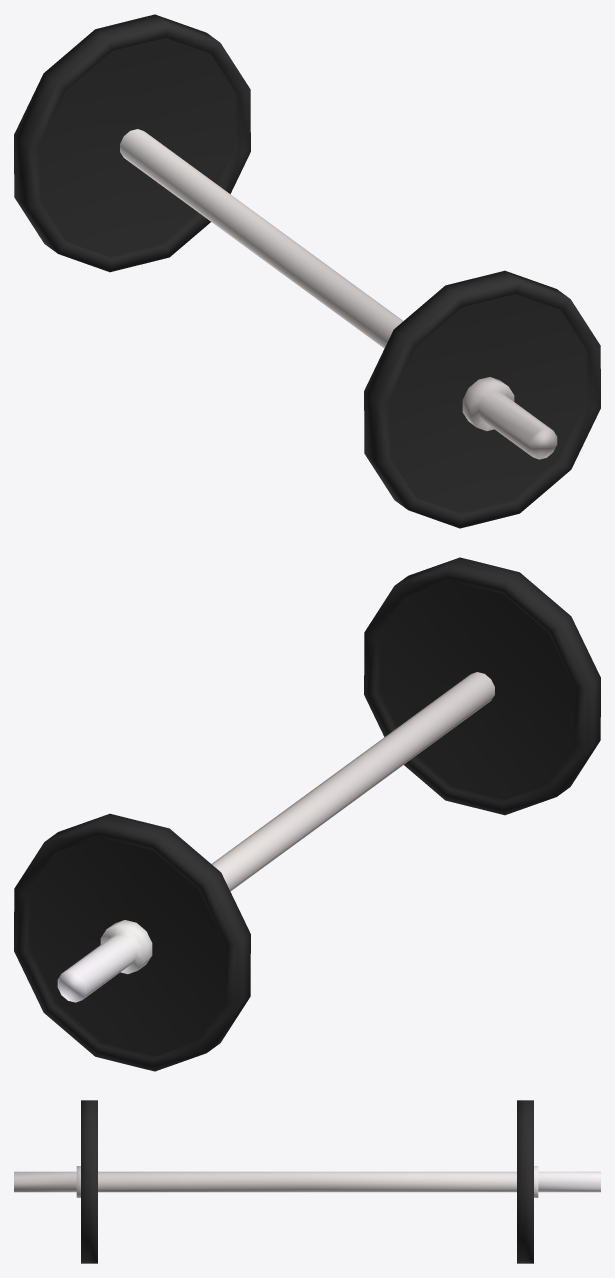
The model's file is Barbell.glb.
3 renders of one model, top to bottom at view 1: azimuth 30°, elevation 25°; view 2: azimuth 150°, elevation 25°; view 3: azimuth 270°, elevation 25°, orthographic. The views are drawn at different scales.
Visible parts, largest first — view 1: Barbell; view 2: Barbell; view 3: Barbell.
Part boxes in pixels (<box>): Barbell: <box>14,14,600,528</box>; Barbell: <box>14,557,600,1071</box>; Barbell: <box>14,1100,600,1263</box>.
Size of the model in its own units: 0.5689 by 0.5689 by 2.08.
Materials: 2 (2 with a texture image).
